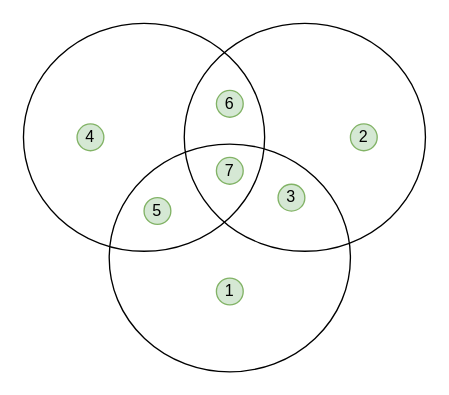
Some shapes in this 449 by 395 pixel diagram are drawn without their labels. Here are the shapes that lost their labels. From the top down, the box of each, then its label:
(22, 22, 265, 251): R ead
(183, 22, 425, 251): W rite
(108, 143, 350, 372): e X ecute
